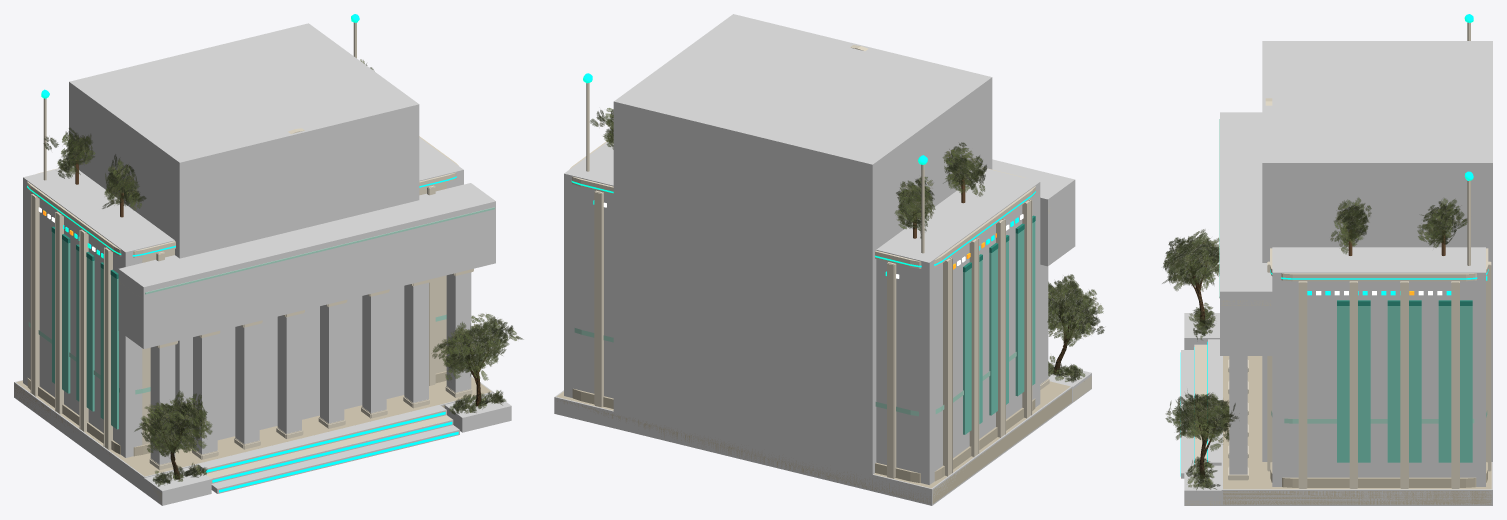
The model's file is intents_exchange.glb.
3 views of the same model, side by side, from view 1: azimuth 30°, elevation 25°; view 2: azimuth 150°, elevation 25°; view 3: azimuth 270°, elevation 25° (orthographic). The views are drawn at different scales.
Visible parts, largest first — view 1: COL_nave, COL_entab, IX_cream, COL_wing_l, IX_stone, IX_glass, FOLIAGE, HT_1, HT_0, IX_ledg, COL_col4, COL_col5 (+14 smaller); view 2: COL_nave, COL_wing_l, IX_cream, COL_wing_r, COL_plinth, IX_glass, IX_stone, FOLIAGE, COL_entab, HT_0, COL_col0, IX_ledg; view 3: COL_nave, COL_wing_r, IX_cream, IX_glass, COL_entab, IX_stone, COL_plinth, FOLIAGE, HT_1, HT_0, COL_col7, COL_planter_r (+6 smaller).
Boxes of the visible parts, x1=… form: COL_nave: x1=69, y1=23, x2=419, y2=449; COL_entab: x1=118, y1=183, x2=495, y2=348; IX_cream: x1=27, y1=22, x2=473, y2=478; COL_wing_l: x1=23, y1=166, x2=174, y2=457; IX_stone: x1=14, y1=371, x2=491, y2=476; IX_glass: x1=52, y1=232, x2=118, y2=429; FOLIAGE: x1=43, y1=59, x2=506, y2=486; HT_1: x1=432, y1=313, x2=523, y2=406; HT_0: x1=134, y1=390, x2=212, y2=479; IX_ledg: x1=27, y1=14, x2=458, y2=492; COL_col4: x1=320, y1=303, x2=344, y2=423; COL_col5: x1=362, y1=293, x2=386, y2=413; COL_nave: x1=613, y1=14, x2=992, y2=490; COL_wing_l: x1=876, y1=168, x2=1040, y2=484; IX_cream: x1=569, y1=45, x2=1049, y2=478; COL_wing_r: x1=564, y1=141, x2=613, y2=398; COL_plinth: x1=554, y1=380, x2=1072, y2=505; IX_glass: x1=963, y1=221, x2=1035, y2=434; IX_stone: x1=556, y1=381, x2=1071, y2=503; FOLIAGE: x1=590, y1=108, x2=1085, y2=382; COL_entab: x1=992, y1=159, x2=1075, y2=266; HT_0: x1=1047, y1=274, x2=1104, y2=374; COL_col0: x1=1040, y1=264, x2=1048, y2=383; IX_ledg: x1=571, y1=73, x2=1035, y2=275; COL_nave: x1=1262, y1=41, x2=1492, y2=461; COL_wing_r: x1=1272, y1=247, x2=1485, y2=486; IX_cream: x1=1195, y1=22, x2=1491, y2=488; IX_glass: x1=1337, y1=306, x2=1472, y2=462; COL_entab: x1=1220, y1=112, x2=1272, y2=355; IX_stone: x1=1223, y1=356, x2=1491, y2=504; COL_plinth: x1=1221, y1=356, x2=1492, y2=505; FOLIAGE: x1=1186, y1=197, x2=1467, y2=489; HT_1: x1=1165, y1=390, x2=1238, y2=478; HT_0: x1=1162, y1=229, x2=1219, y2=325; COL_col7: x1=1229, y1=356, x2=1247, y2=474; COL_planter_r: x1=1184, y1=465, x2=1221, y2=505.
Bounding box in the file's own units: 27.07 × 21.1 × 20.39.
Materials: 18 (2 with a texture image).
